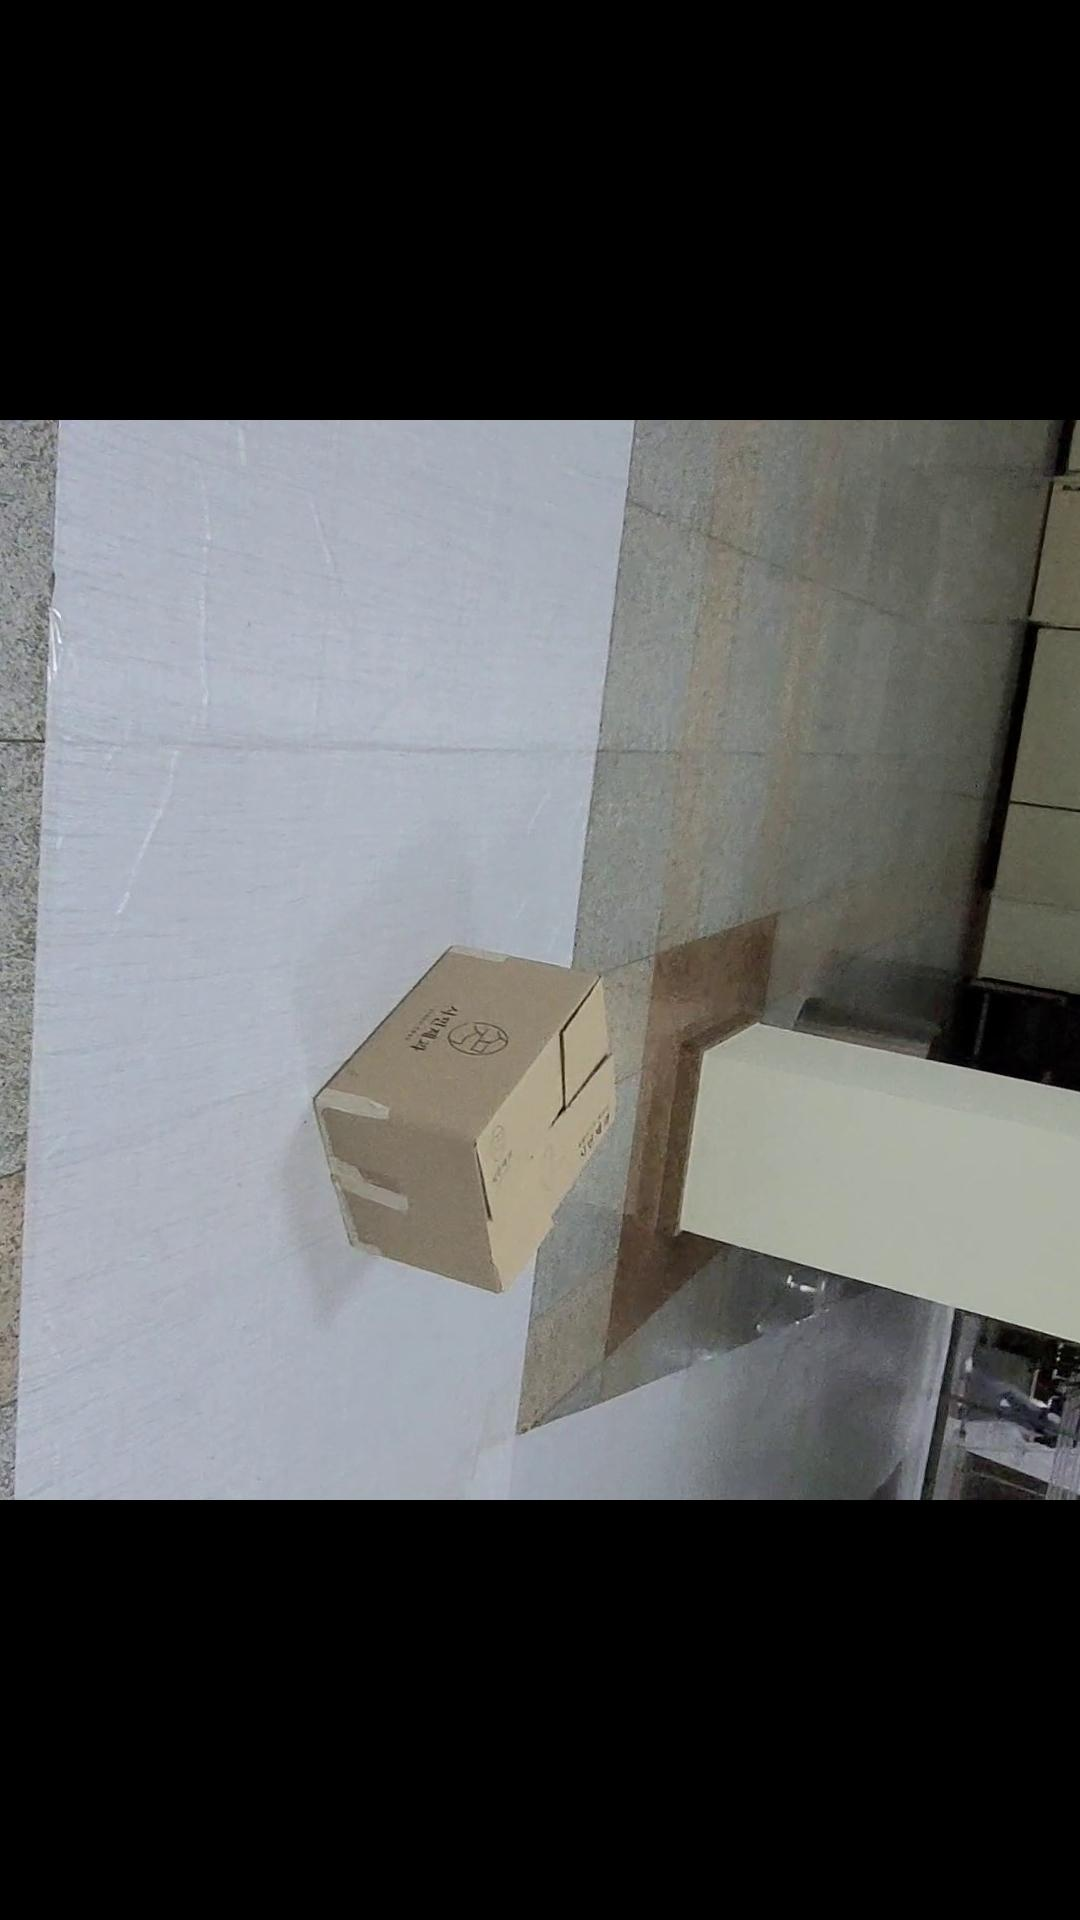Box: (285, 895, 626, 1320)
